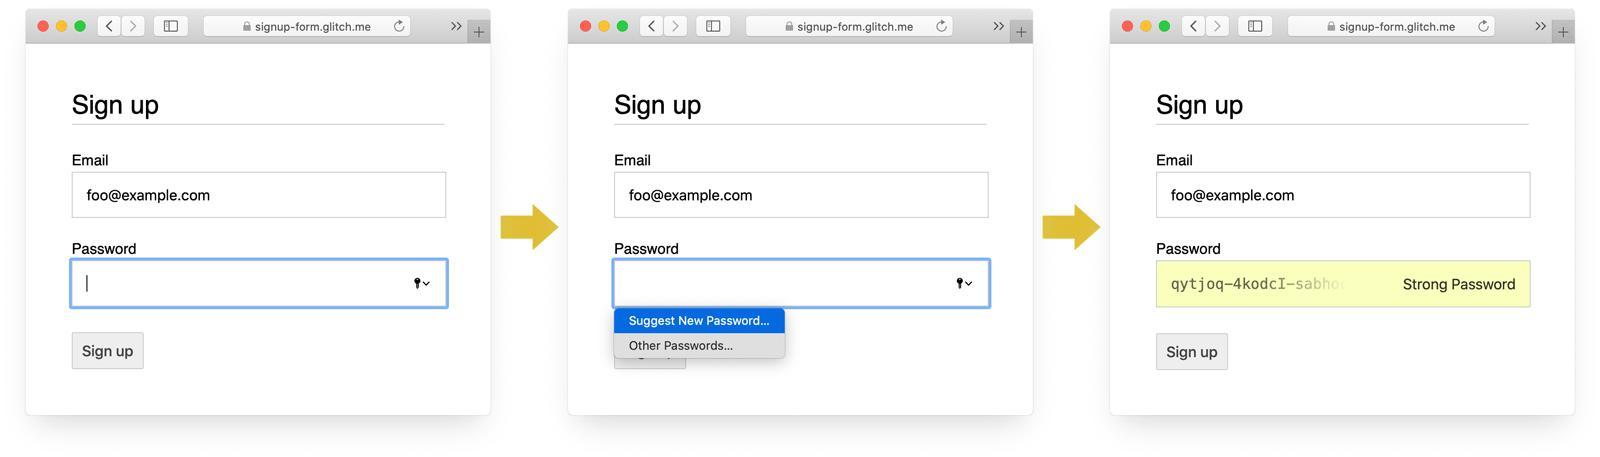button: (73, 332, 145, 370), (1157, 337, 1228, 371)
dropdown: (612, 260, 988, 308), (71, 261, 448, 307)
input: (617, 173, 988, 219), (73, 173, 446, 218), (1156, 175, 1531, 219), (1157, 263, 1531, 307)
label: (70, 239, 144, 260), (608, 237, 688, 256), (1156, 240, 1228, 260), (69, 147, 114, 170), (1156, 151, 1199, 171), (614, 151, 656, 171)
